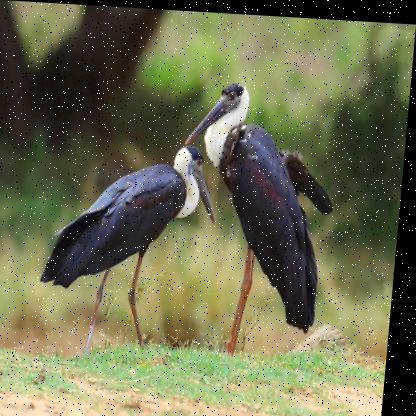Burung: (169, 72, 354, 356), (35, 136, 226, 364)
